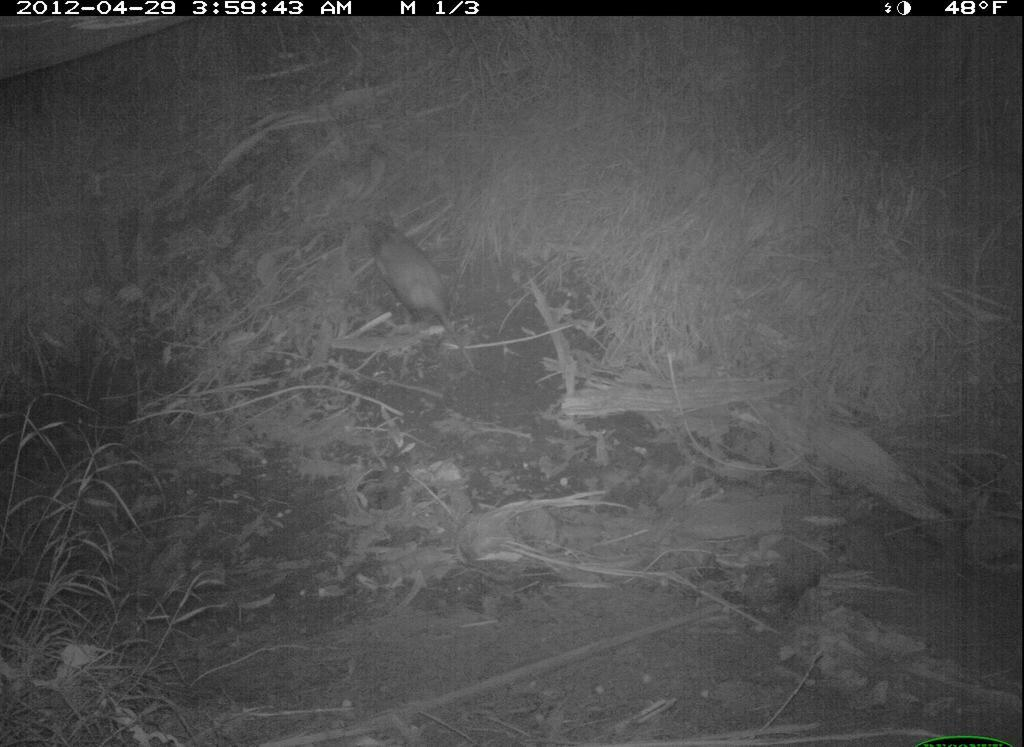opossum: (360, 205, 481, 372)
